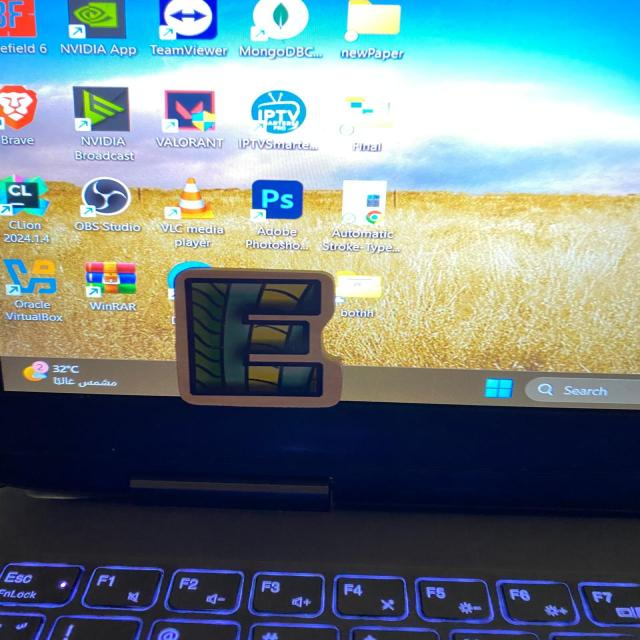E: (175, 268, 341, 407)
